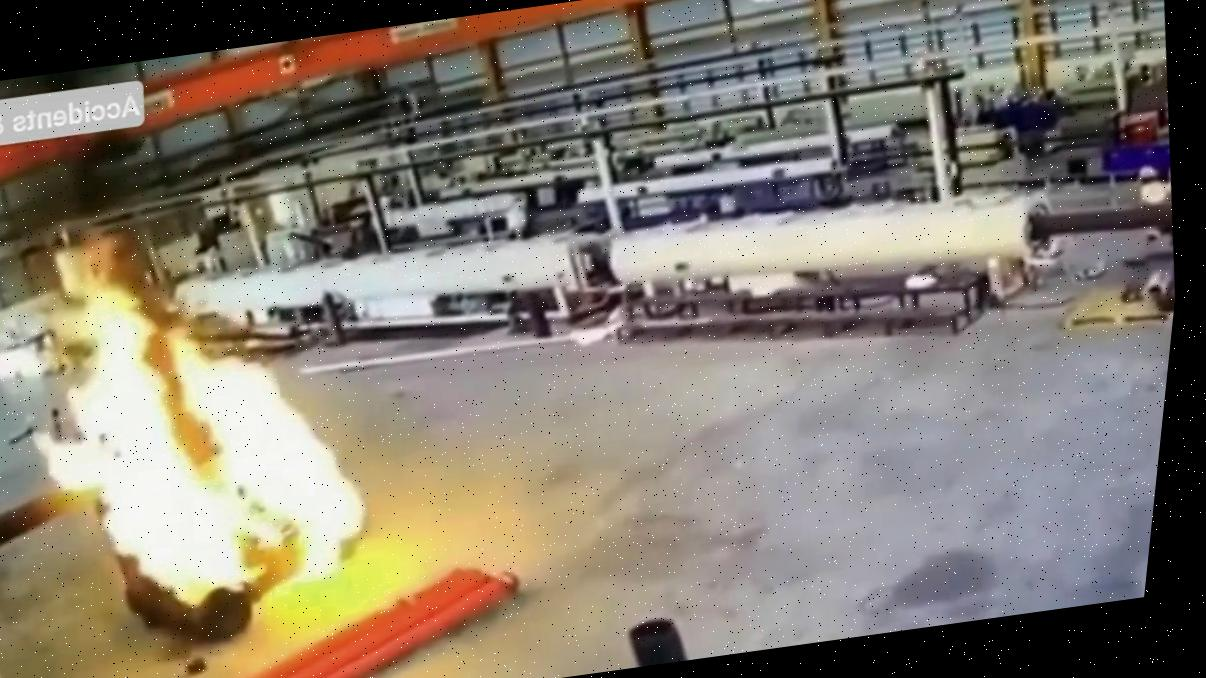fire: (1, 223, 376, 651)
